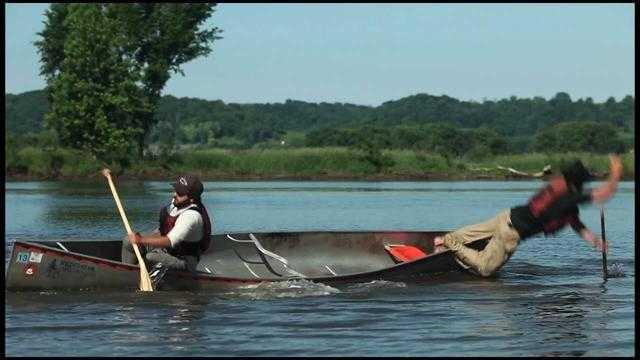kayak: (6, 239, 160, 291)
